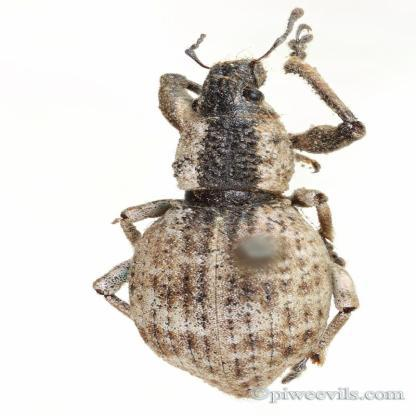rice-bug: (104, 54, 372, 397)
